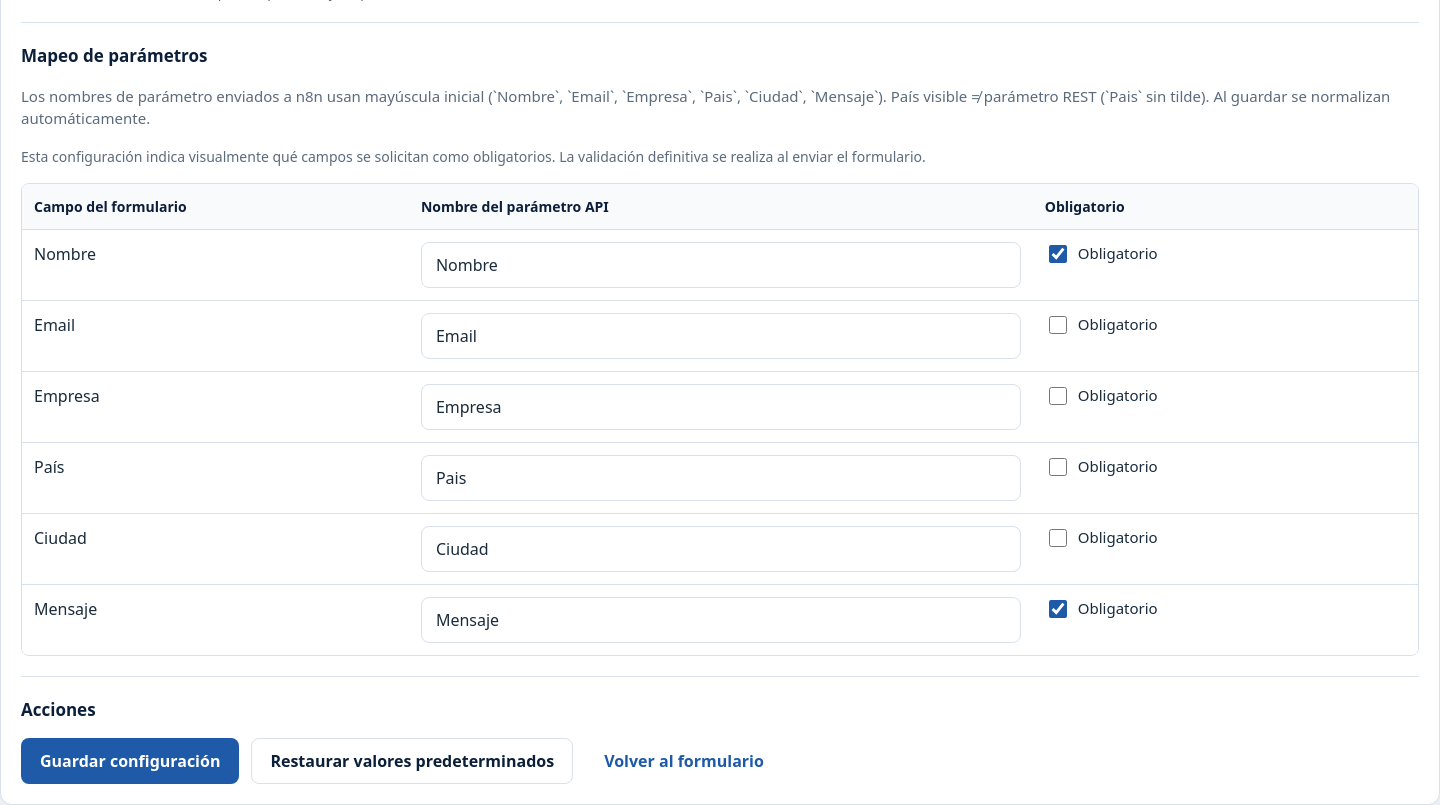
AdminPage › al guardar normaliza el parámetro de empresa al valor oficial
The width and height of the screenshot is (1440, 805).
(page scrolled)
Step 1. Replace the text in the 3rd field named "Parámetro para Empresa" with "companyName" → (721, 406), box [421,384,1021,430]
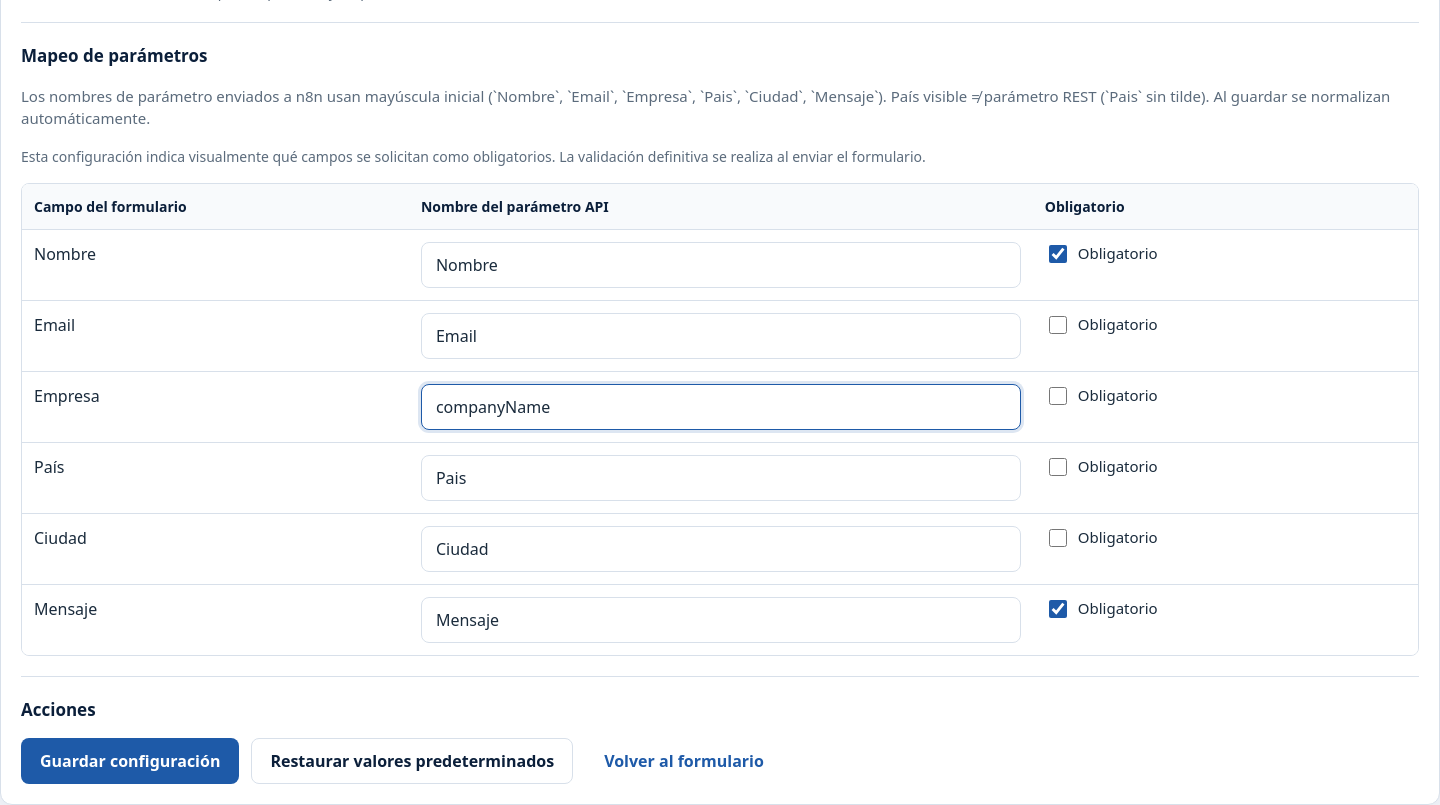
Step 2. Click the checkbox named "Marcar Empresa como obligatorio" → (1058, 396), box [1049,386,1067,404]
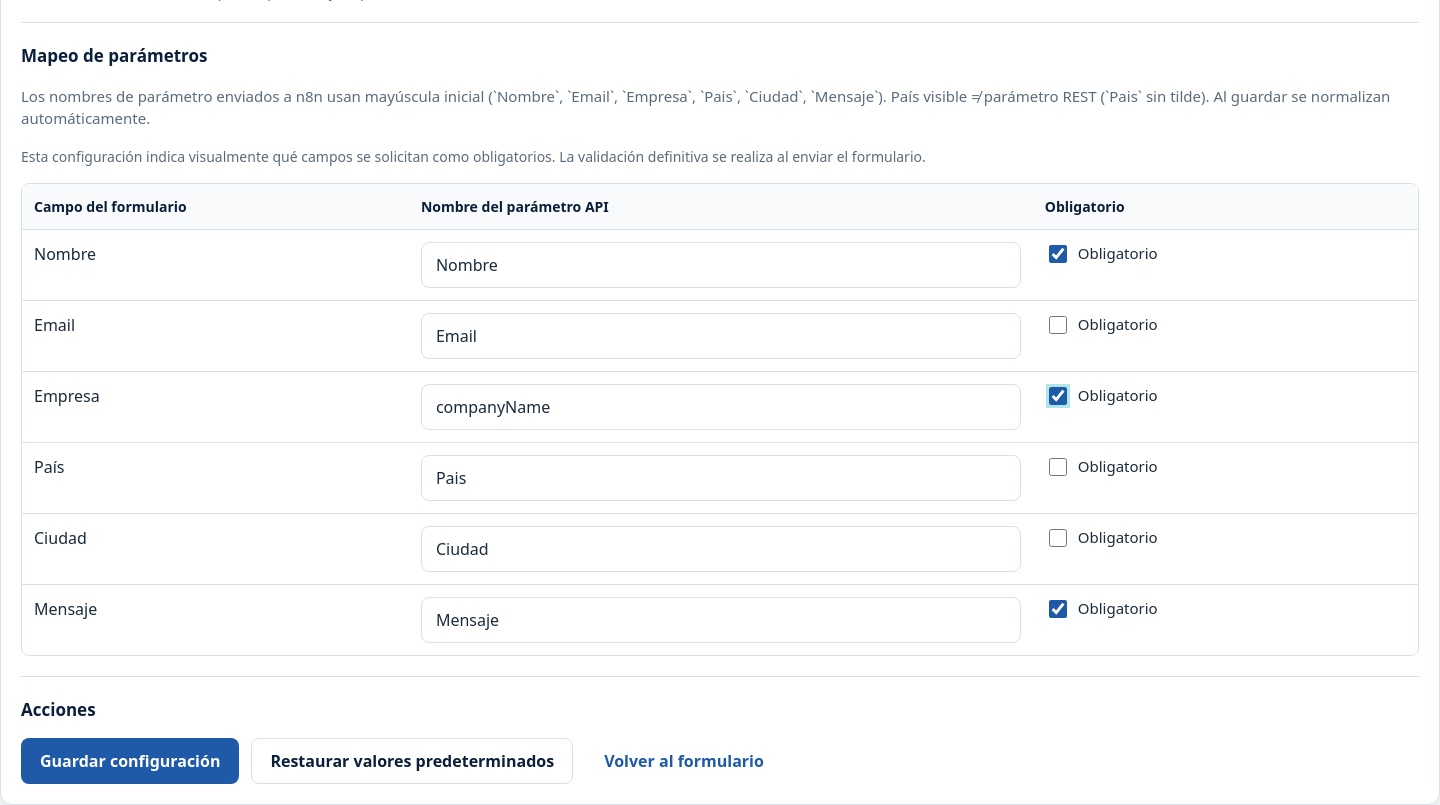
Step 3. Click the button "Guardar configuración" → (130, 761), box [21,738,239,784]
(page scrolled)
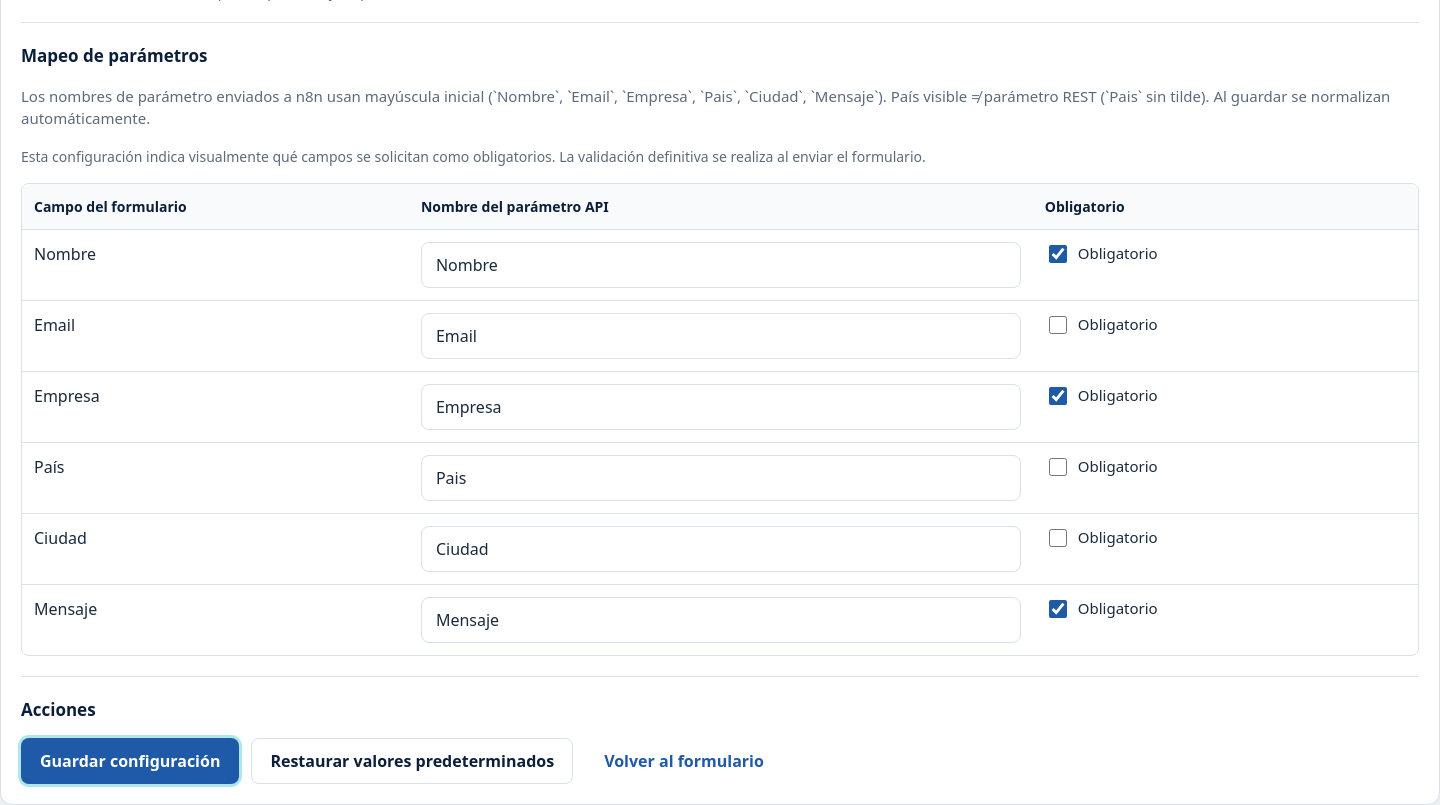
Check: the 3rd field named "Parámetro para Empresa" holds "Empresa", box [421,384,1021,430]
